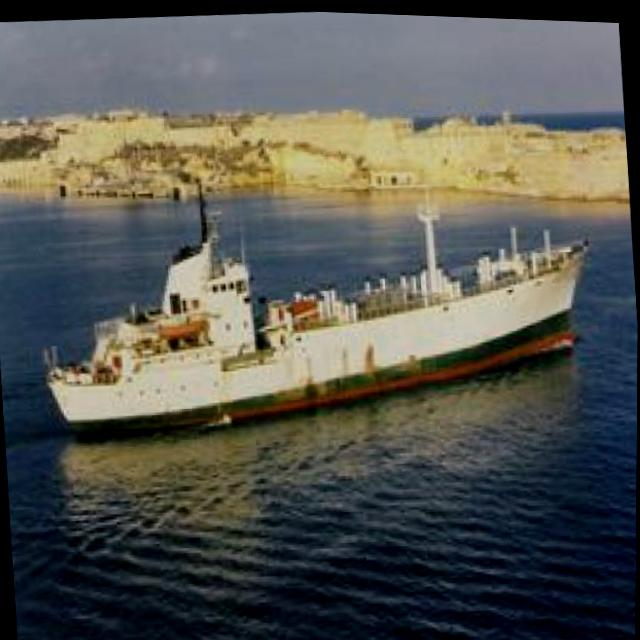ship2: (44, 178, 590, 435)
